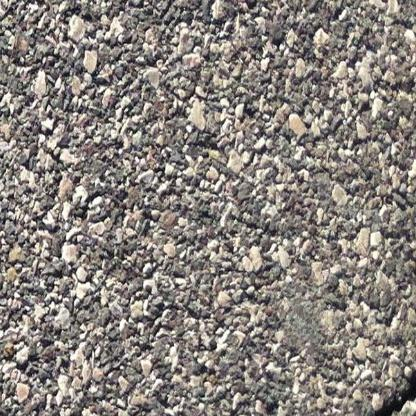Cracks: (339, 368, 416, 416)
